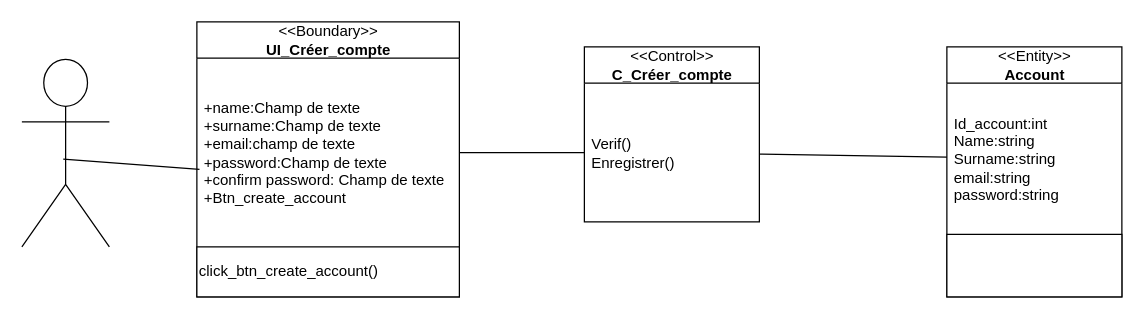
The diagram is 1144 pixels wide and 319 high, and some of its shapes have lost their labels. Here are the shapes that lost their labels. From the top down, the centre of each, then its label:
At (x=65, y=152): "Actor".
At (x=1034, y=265): "enregistrer()".
